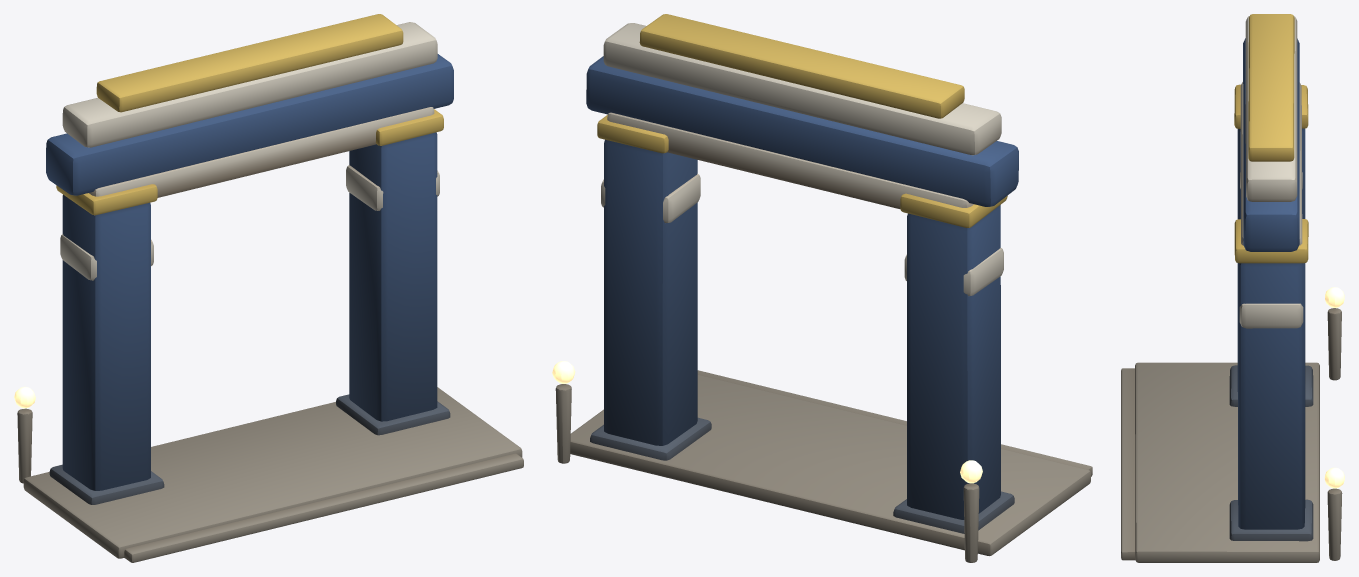
3 views of the same model, side by side, from view 1: azimuth 30°, elevation 25°; view 2: azimuth 150°, elevation 25°; view 3: azimuth 270°, elevation 25° (orthographic). The views are drawn at different scales.
Visible parts, largest first — view 1: gate_b11578cf; view 2: gate_b11578cf; view 3: gate_b11578cf.
Part boxes in pixels (left/top/right/bottom): gate_b11578cf: left=14, top=14, right=523, bottom=562; gate_b11578cf: left=552, top=14, right=1092, bottom=562; gate_b11578cf: left=1121, top=14, right=1344, bottom=562.
Bounding box in the file's own units: 5.12 × 4.9 × 2.54.
